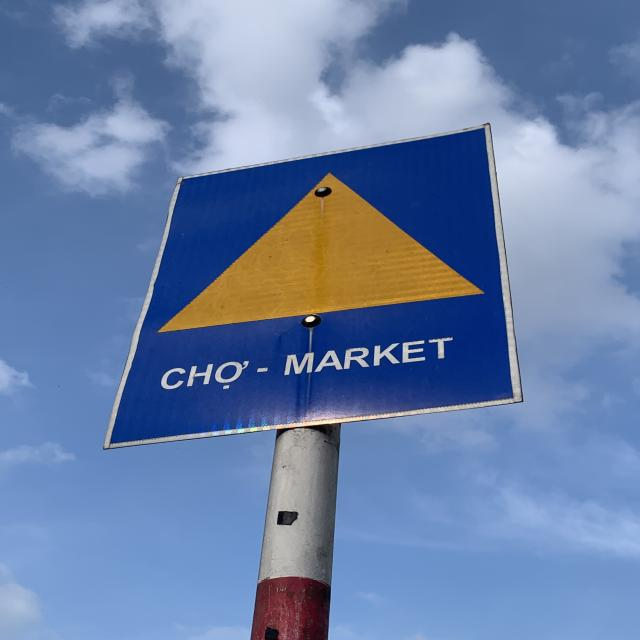Cho_Quay_Xe: (106, 123, 527, 452)
